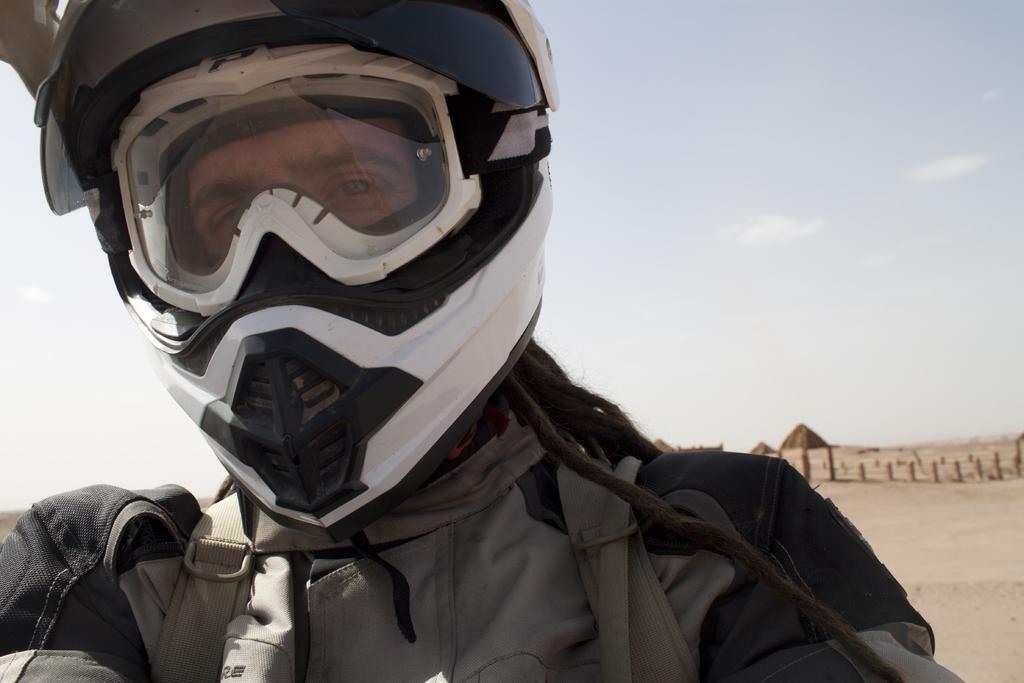helmet: (0, 0, 561, 545)
